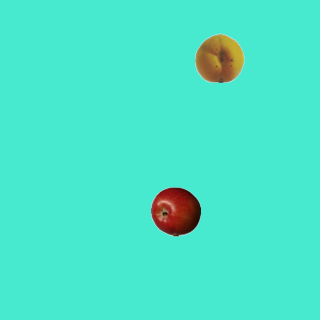Apple Braeburn: (150, 186, 200, 236)
Peach 2: (194, 32, 244, 82)
